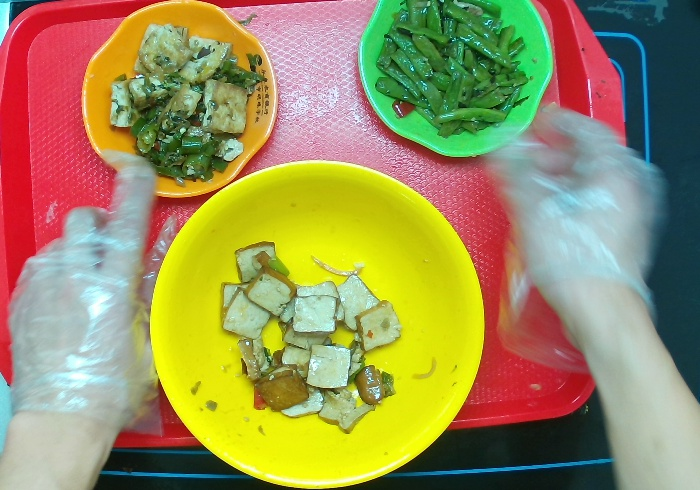YKMZ-Huang_Se_Tang_Wan: (148, 158, 487, 490)
YKMZ-Ju_Se_Ao_Bian_Wan: (79, 1, 280, 199)
YKMZ-Lv_Se_Ao_Bian_Wan: (356, 1, 555, 159)
